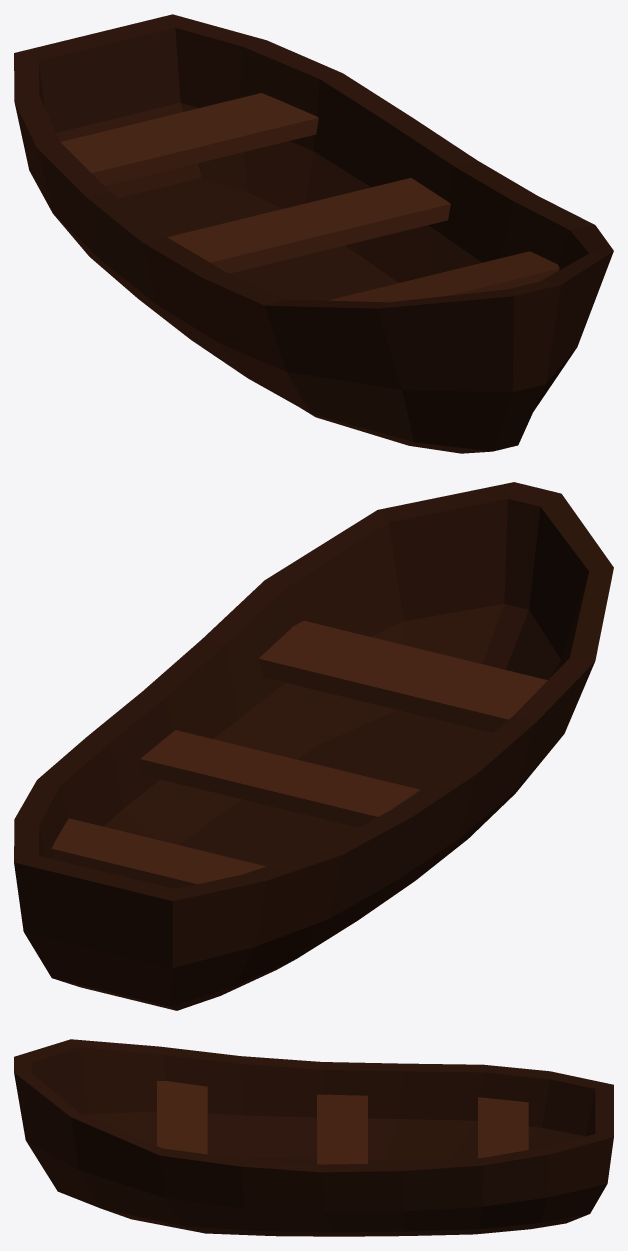
The model's file is RowBoat.fbx.glb.
3 views of the same model, one above another, from view 1: azimuth 30°, elevation 25°; view 2: azimuth 150°, elevation 25°; view 3: azimuth 270°, elevation 25° (orthographic). The views are drawn at different scales.
Visible parts, largest first — view 1: RowBoat; view 2: RowBoat; view 3: RowBoat.
Part boxes in pixels (<box>): RowBoat: <box>14,14,613,453</box>; RowBoat: <box>14,482,613,1010</box>; RowBoat: <box>14,1039,613,1236</box>.
Bounding box in the file's own units: 102 × 62.02 × 235.
